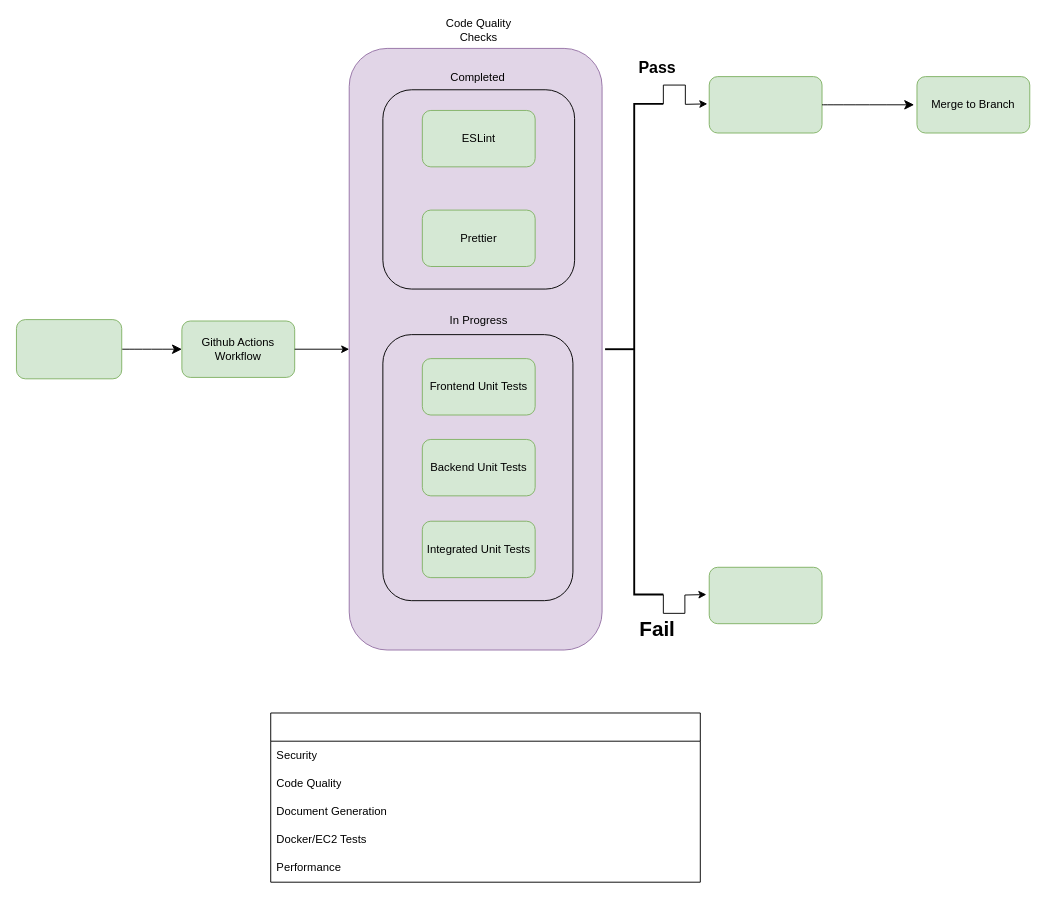
Some shapes in this 1046 by 899 pixel diagram are drawn without their labels. The box of each missing label's shape, as (x1, y1, x2, y2) in pixels:
All Checks Pass: (708, 76, 822, 133)
Block Merge, Notify Dev: (708, 566, 822, 624)
Planned/Maybe: (270, 712, 700, 882)
Someone Pushes Code: (16, 319, 122, 379)
